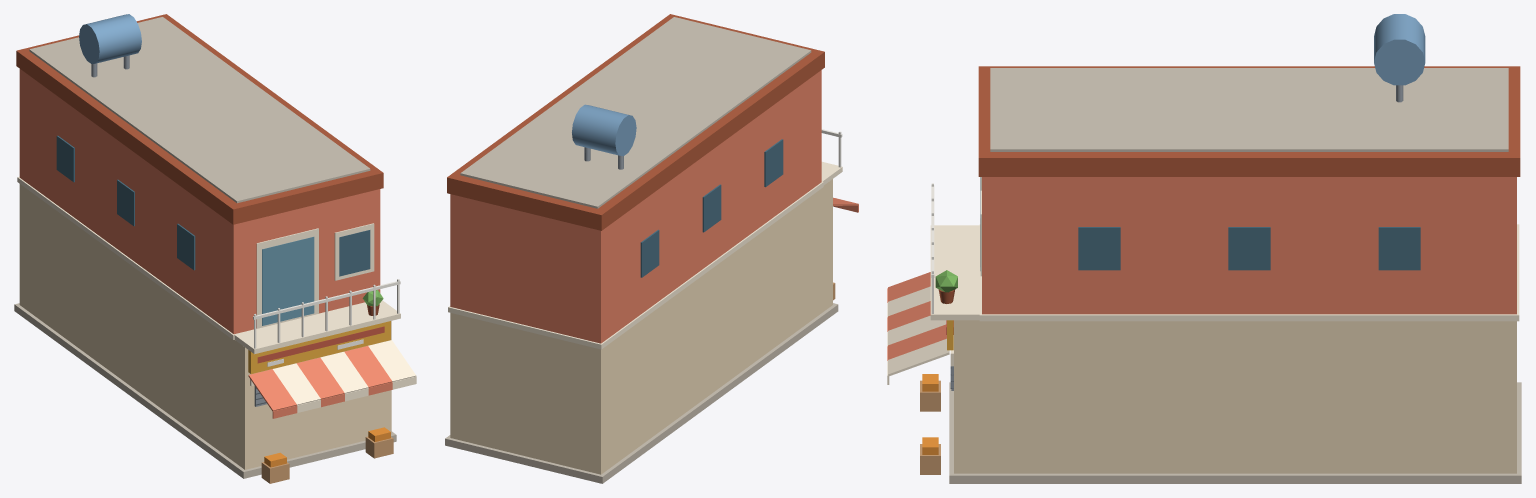
Rendered from shophouse-01.glb.
3 views of the same model, side by side, from view 1: azimuth 30°, elevation 25°; view 2: azimuth 150°, elevation 25°; view 3: azimuth 270°, elevation 25° (orthographic). The views are drawn at different scales.
Parts seen in each view (by area): view 1: Roof, GroundFloor, Floor2, Windows2, Awning, Balcony2, Base, Sign, RoofTank, Goods; view 2: GroundFloor, Floor2, Roof, Base, RoofTank, Windows2, Balcony2; view 3: GroundFloor, Floor2, Roof, Base, Windows2, Balcony2, Awning, RoofTank, Goods.
Part boxes in pixels (x1=…): Roof: x1=16, y1=14, x2=383, y2=224; GroundFloor: x1=19, y1=184, x2=391, y2=469; Floor2: x1=17, y1=69, x2=380, y2=339; Windows2: x1=56, y1=135, x2=374, y2=328; Awning: x1=248, y1=340, x2=416, y2=418; Balcony2: x1=234, y1=279, x2=400, y2=354; Base: x1=14, y1=303, x2=396, y2=478; Sign: x1=248, y1=321, x2=390, y2=373; RoofTank: x1=79, y1=14, x2=141, y2=77; Goods: x1=261, y1=427, x2=393, y2=483; GroundFloor: x1=450, y1=179, x2=832, y2=474; Floor2: x1=448, y1=70, x2=823, y2=349; Roof: x1=447, y1=14, x2=824, y2=230; Base: x1=445, y1=303, x2=838, y2=483; RoofTank: x1=572, y1=104, x2=636, y2=169; Windows2: x1=640, y1=139, x2=783, y2=277; Balcony2: x1=821, y1=129, x2=842, y2=185; GroundFloor: x1=954, y1=320, x2=1516, y2=473; Floor2: x1=979, y1=177, x2=1519, y2=321; Roof: x1=978, y1=66, x2=1520, y2=176; Base: x1=949, y1=382, x2=1521, y2=483; Windows2: x1=980, y1=177, x2=1420, y2=276; Balcony2: x1=930, y1=183, x2=981, y2=320; Awning: x1=887, y1=272, x2=949, y2=384; RoofTank: x1=1374, y1=14, x2=1425, y2=102; Goods: x1=920, y1=374, x2=940, y2=474.
Bounding box in the file's own units: 4.7 × 9.24 × 13.52.
